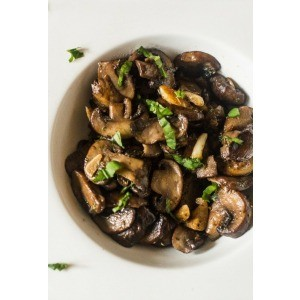mushroom_brain food: (85, 100, 235, 226)
